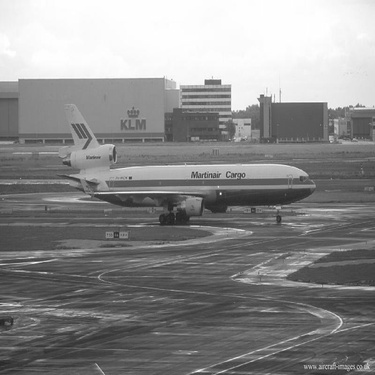airplane: (29, 90, 328, 238)
